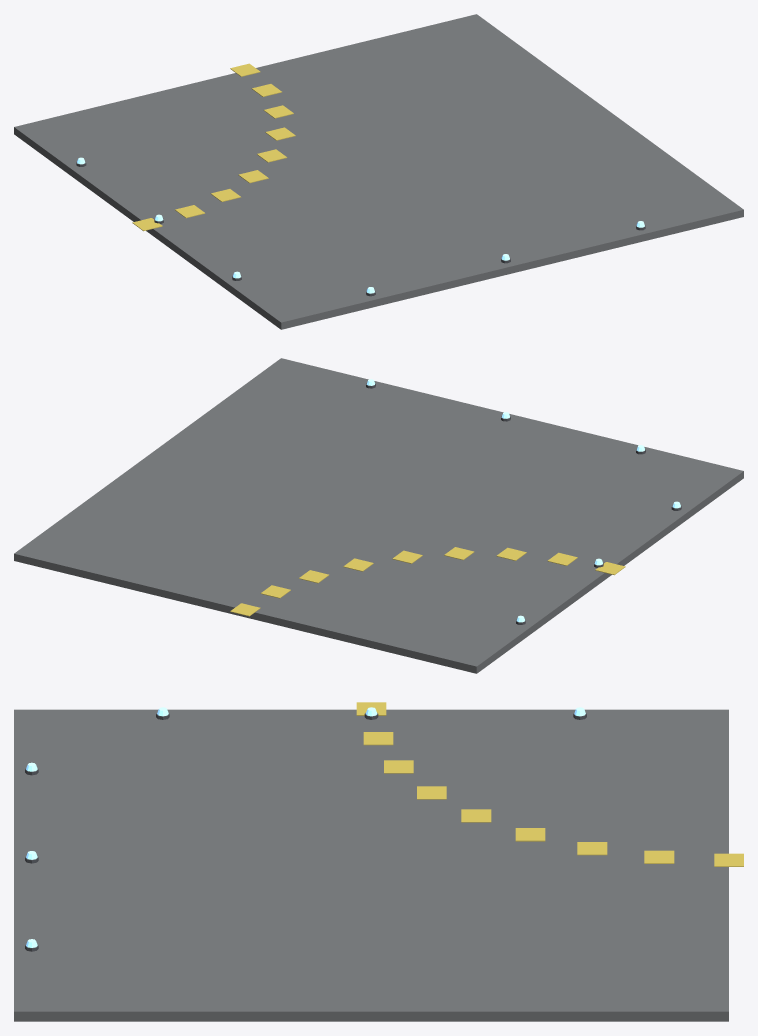
Rendered from aircraft-fleet-and-airfield-taxiway-turn-1c2f82a3__32816.glb.
3 renders of one model, top to bottom at view 1: azimuth 30°, elevation 25°; view 2: azimuth 150°, elevation 25°; view 3: azimuth 270°, elevation 25°, orthographic. The views are drawn at different scales.
Parts seen in each view (by area): view 1: taxiway-turn; view 2: taxiway-turn; view 3: taxiway-turn.
Part boxes in pixels (x1,y1,x2,y2): taxiway-turn: [14, 14, 743, 329]; taxiway-turn: [14, 358, 743, 673]; taxiway-turn: [14, 702, 743, 1021].
Size of the model in its own units: 12.25 by 0.3298 by 12.25.
